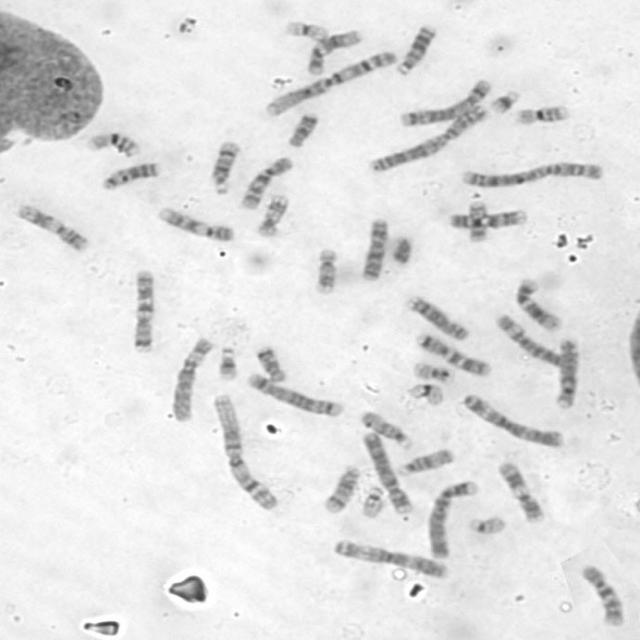A1: (264, 48, 399, 118), (210, 393, 281, 514)
A2: (367, 104, 490, 174), (459, 160, 604, 189)
A3: (457, 393, 569, 450), (330, 539, 452, 582)
B4: (362, 431, 417, 516), (425, 477, 478, 560)
B5: (397, 76, 494, 128), (246, 372, 344, 418)
C10: (577, 564, 626, 628), (239, 154, 293, 212)
C11: (14, 203, 91, 253), (496, 459, 546, 524)
C12: (512, 278, 564, 332), (306, 28, 363, 76)
C6: (492, 312, 562, 366), (172, 336, 215, 422)
C7: (414, 332, 494, 378), (134, 266, 156, 354)
C8: (406, 294, 470, 342), (554, 335, 583, 409)
C9: (153, 205, 236, 242), (448, 208, 528, 229)
D13: (397, 21, 437, 76), (101, 161, 164, 191)
D14: (322, 462, 360, 514), (209, 138, 240, 196)
D15: (360, 410, 414, 450), (397, 447, 455, 477)
E16: (85, 129, 144, 160), (513, 103, 571, 125)
E17: (256, 192, 290, 237), (312, 246, 338, 296)
E18: (255, 344, 288, 384), (288, 111, 320, 149)
F19: (402, 380, 448, 410), (284, 20, 331, 43)
F20: (464, 199, 490, 243), (410, 360, 457, 384)
G21: (486, 87, 524, 116), (217, 345, 240, 381)
G22: (359, 483, 386, 519), (468, 512, 508, 536)
X: (359, 216, 388, 282)
Y: (390, 235, 412, 264)
